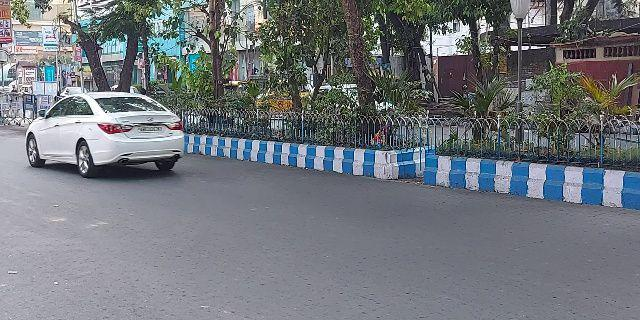Car: (22, 88, 188, 180)
